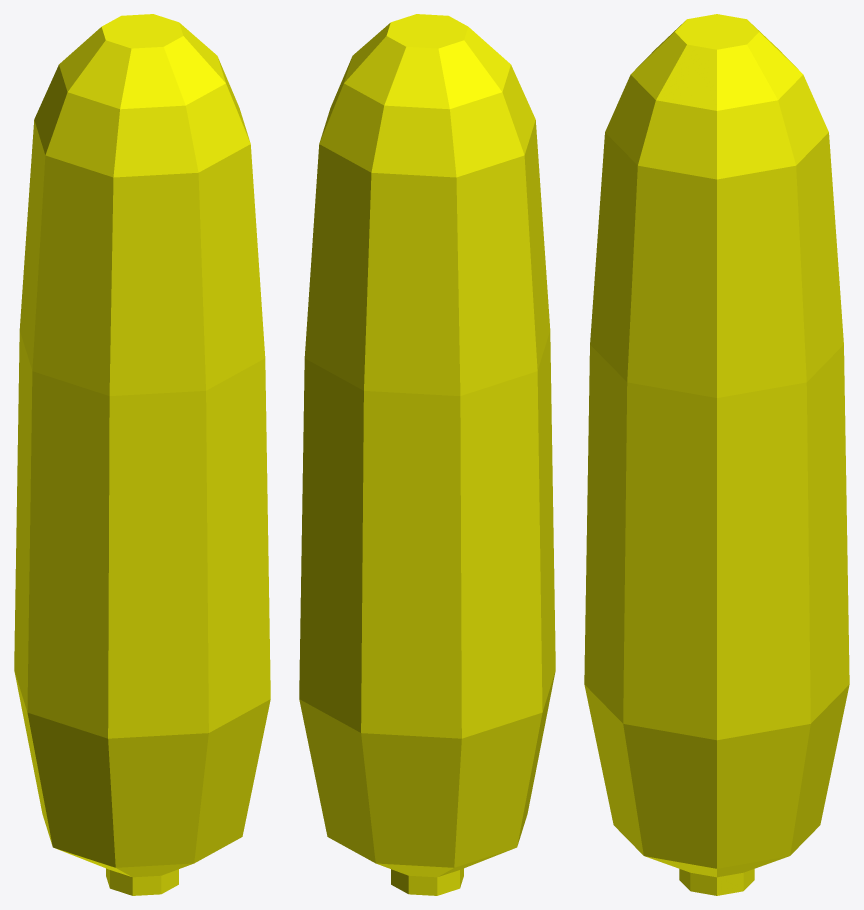
File: corn03.gltf
The picture shows the model from 3 angles, left to right: view 1: azimuth 30°, elevation 25°; view 2: azimuth 150°, elevation 25°; view 3: azimuth 270°, elevation 25°; orthographic projection.
Parts seen in each view (by area): view 1: Cylinder; view 2: Cylinder; view 3: Cylinder.
Boxes of the visible parts, box(x1,y1,x2,y2) form: Cylinder: box(14, 14, 270, 895); Cylinder: box(299, 14, 555, 895); Cylinder: box(584, 14, 849, 895).
Size of the model in its own units: 0.0612 by 0.2157 by 0.0612.
Materials: 1 (1 with a texture image).
